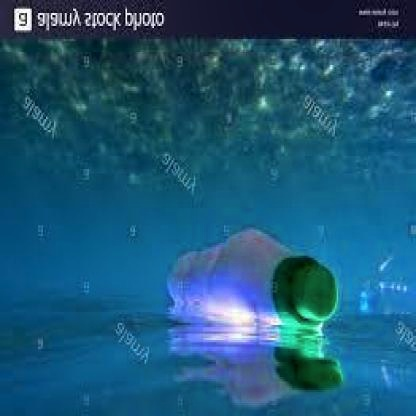pbottle: (156, 228, 343, 342)
